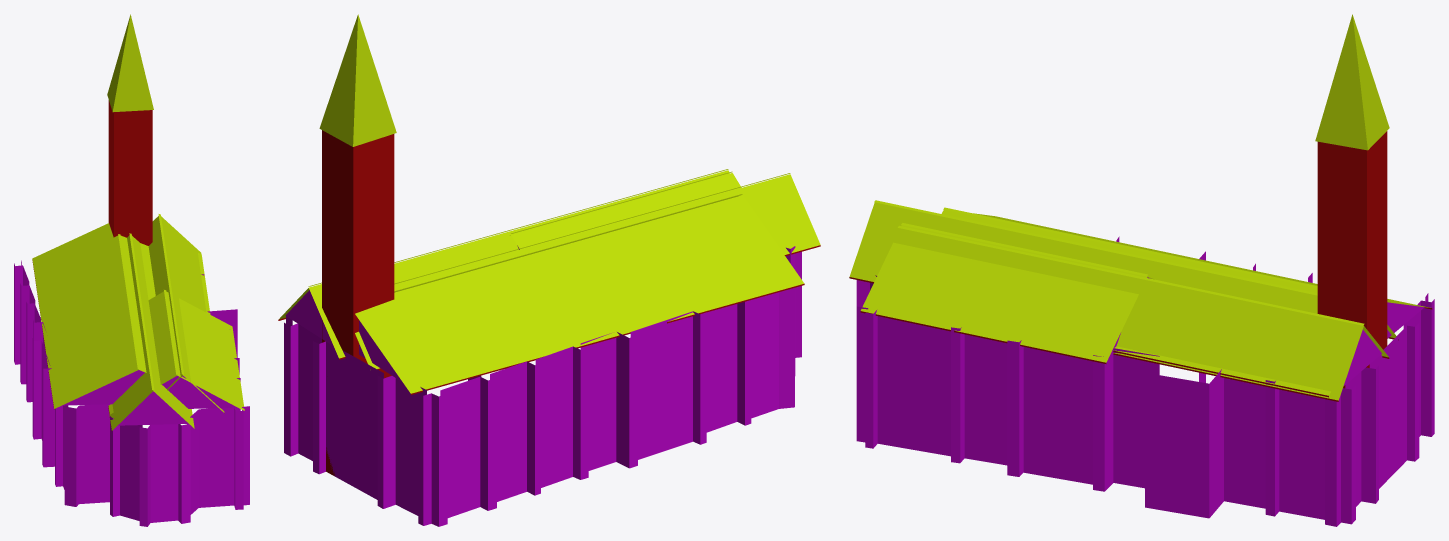
File: btm_32.glb
3 views of the same model, side by side, from view 1: azimuth 30°, elevation 25°; view 2: azimuth 150°, elevation 25°; view 3: azimuth 270°, elevation 25° (orthographic). The views are drawn at different scales.
Parts seen in each view (by area): view 1: btm_32; view 2: btm_32; view 3: btm_32.
Part boxes in pixels (<box>): btm_32: <box>14,14,249,526</box>; btm_32: <box>278,14,820,526</box>; btm_32: <box>849,14,1434,526</box>.
Size of the model in its own units: 32.28 by 39.17 by 43.93.
